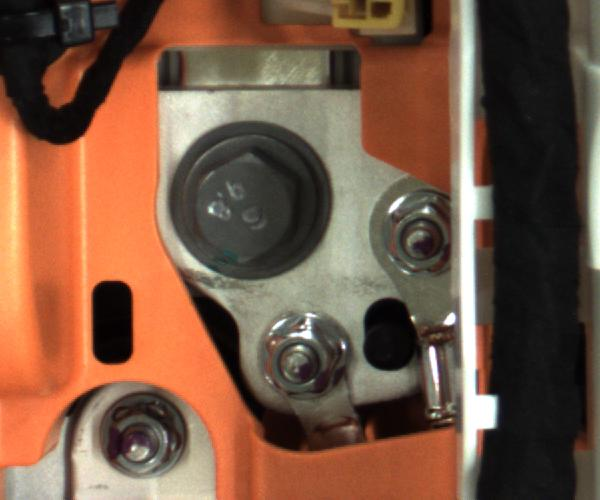nut_b: (168, 136, 329, 275)
screw_s: (96, 397, 184, 488), (378, 194, 447, 282), (257, 326, 343, 395)
